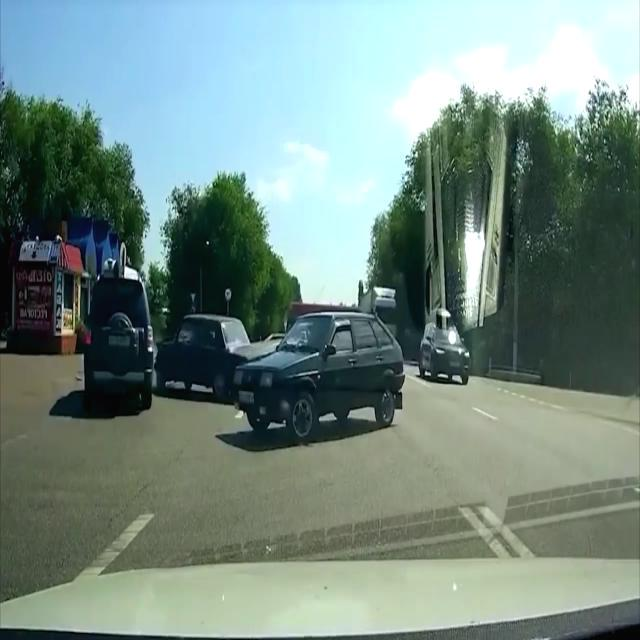accident: (85, 284, 237, 404)
non-accident: (157, 312, 403, 436)
